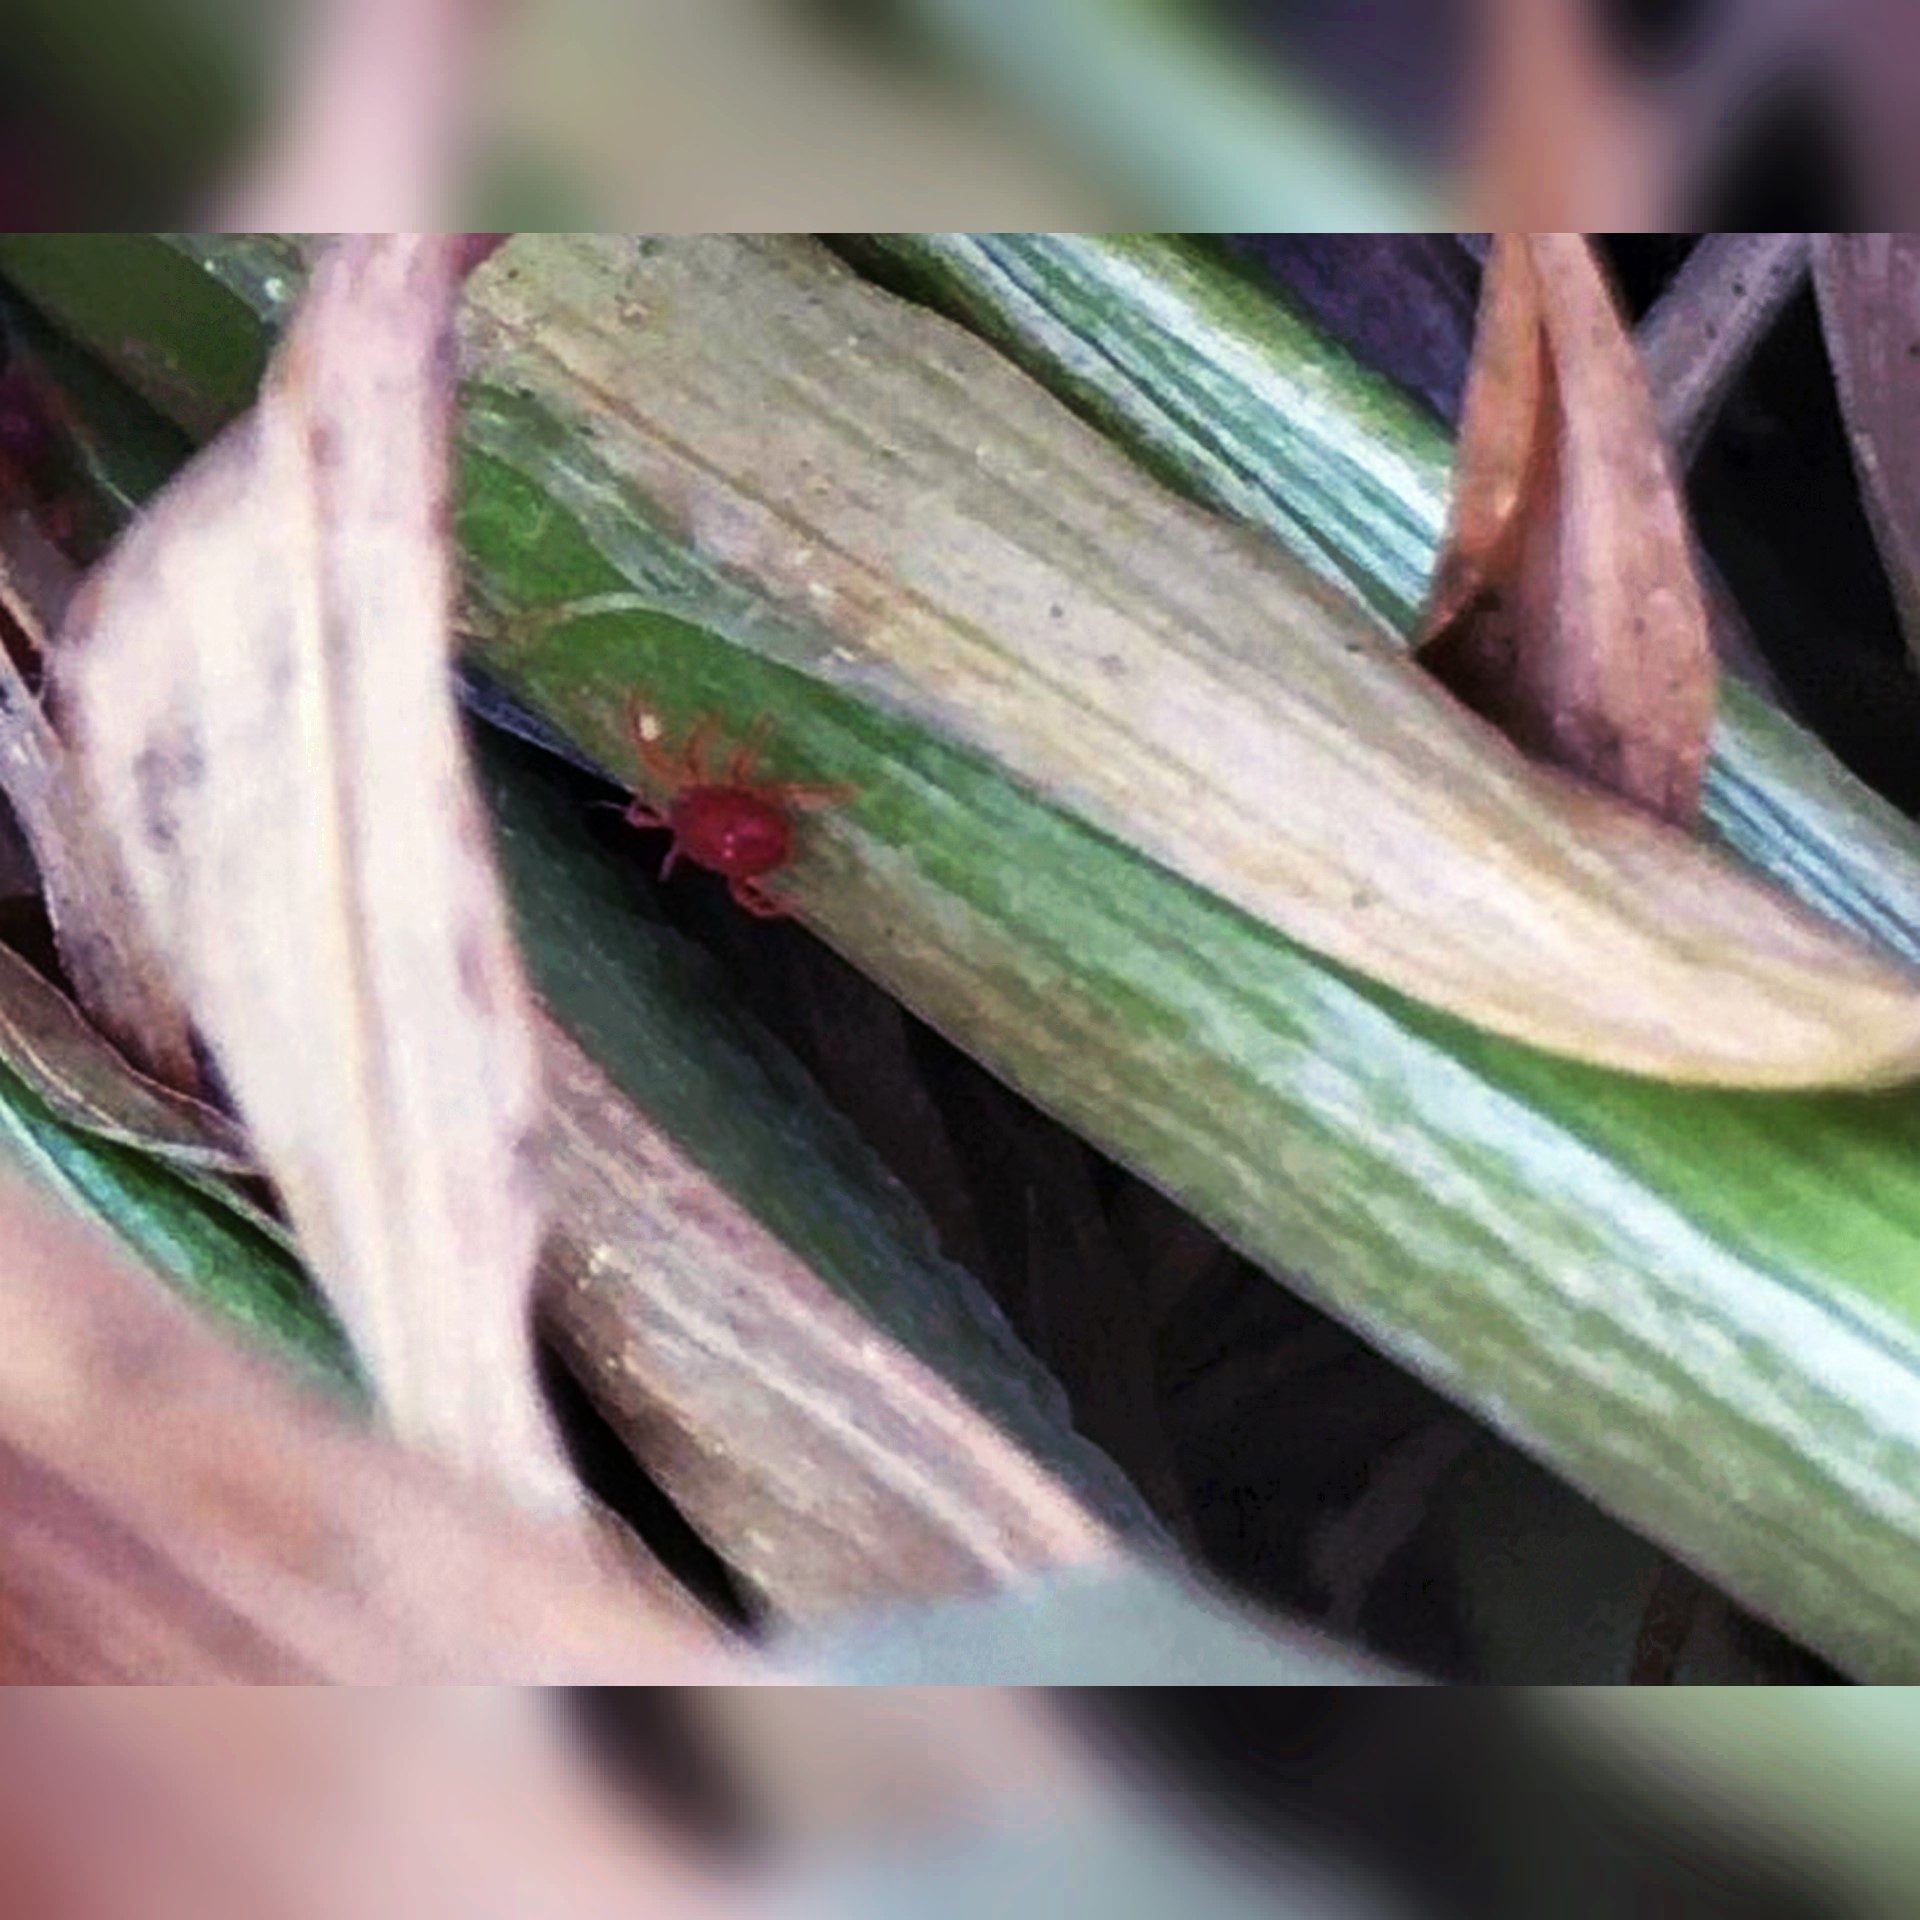Wheat Red Spider: (593, 680, 860, 932)
